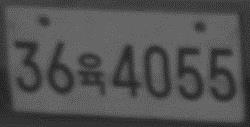0: (143, 45, 171, 98)
3: (13, 39, 42, 92)
4: (111, 43, 142, 96)
5: (209, 47, 237, 102), (176, 46, 204, 99)
6: (47, 41, 74, 94)
육: (77, 52, 106, 95)
